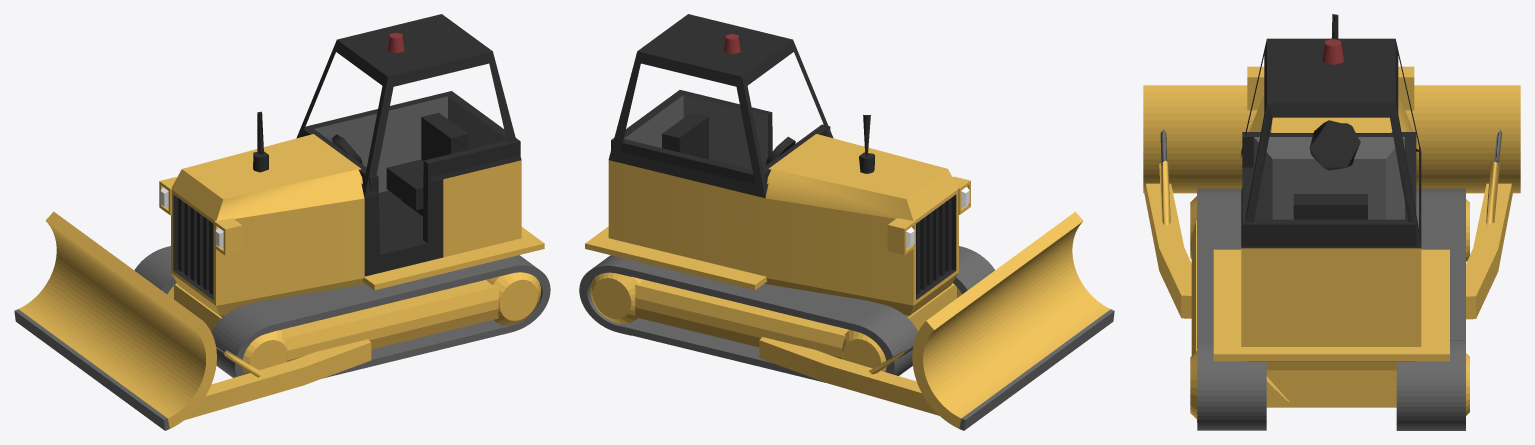
Rendered from transport-bulldozer-310.glb.
The picture shows the model from 3 angles, left to right: view 1: azimuth 30°, elevation 25°; view 2: azimuth 150°, elevation 25°; view 3: azimuth 270°, elevation 25°; orthographic projection. The views are drawn at different scales.
Visible parts, largest first — view 1: Box003; view 2: Box003; view 3: Box003.
Boxes of the visible parts, box(x1,y1,x2,y2) form: Box003: box(14, 14, 550, 430); Box003: box(579, 14, 1114, 430); Box003: box(1143, 14, 1520, 430).
Bounding box in the file's own units: 31.57 × 20.13 × 20.
